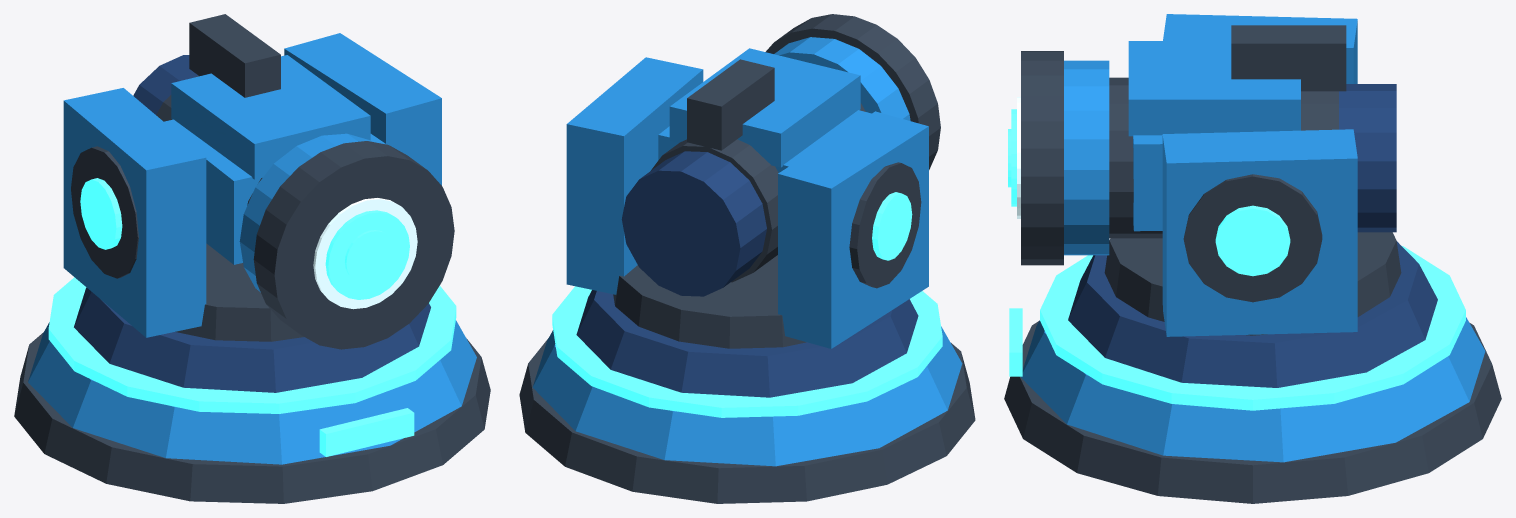
The model's file is laser_cannon_blue.glb.
3 renders of one model, left to right at view 1: azimuth 30°, elevation 25°; view 2: azimuth 150°, elevation 25°; view 3: azimuth 270°, elevation 25°, orthographic. The views are drawn at different scales.
Parts seen in each view (by area): view 1: laser_cannon_blue_Emitter_Rim, laser_cannon_blue_Yoke_Left, laser_cannon_blue_Base_Lower, laser_cannon_blue_Base_Armor, laser_cannon_blue_Base_Deck, laser_cannon_blue_Base_Light_Ring, laser_cannon_blue_Barrel_Armor_Top, laser_cannon_blue_Yoke_Right, laser_cannon_blue_Yaw_Bearing, laser_cannon_blue_Top_Sight, laser_cannon_blue_Barrel_Armor_Left, laser_cannon_blue_Left_Pivot_Rim (+7 smaller); view 2: laser_cannon_blue_Yoke_Left, laser_cannon_blue_Base_Armor, laser_cannon_blue_Base_Lower, laser_cannon_blue_Base_Deck, laser_cannon_blue_Yoke_Right, laser_cannon_blue_Rear_Power_Cell, laser_cannon_blue_Base_Light_Ring, laser_cannon_blue_Yaw_Bearing, laser_cannon_blue_Barrel_Armor_Top, laser_cannon_blue_Emitter_Rim, laser_cannon_blue_Top_Sight, laser_cannon_blue_Left_Pivot_Rim (+4 smaller); view 3: laser_cannon_blue_Yoke_Right, laser_cannon_blue_Base_Armor, laser_cannon_blue_Base_Lower, laser_cannon_blue_Base_Deck, laser_cannon_blue_Base_Light_Ring, laser_cannon_blue_Barrel_Armor_Top, laser_cannon_blue_Right_Pivot_Rim, laser_cannon_blue_Emitter_Rim, laser_cannon_blue_Focus_Collar, laser_cannon_blue_Yaw_Bearing, laser_cannon_blue_Top_Sight, laser_cannon_blue_Rear_Power_Cell (+6 smaller).
Boxes of the visible parts, x1=… form: laser_cannon_blue_Emitter_Rim: x1=253, y1=141, x2=454, y2=349; laser_cannon_blue_Yoke_Left: x1=63, y1=88, x2=206, y2=337; laser_cannon_blue_Base_Lower: x1=14, y1=332, x2=490, y2=503; laser_cannon_blue_Base_Armor: x1=28, y1=320, x2=476, y2=464; laser_cannon_blue_Base_Deck: x1=74, y1=287, x2=430, y2=392; laser_cannon_blue_Base_Light_Ring: x1=48, y1=277, x2=456, y2=413; laser_cannon_blue_Barrel_Armor_Top: x1=171, y1=55, x2=370, y2=179; laser_cannon_blue_Yoke_Right: x1=284, y1=33, x2=441, y2=185; laser_cannon_blue_Yaw_Bearing: x1=175, y1=243, x2=303, y2=341; laser_cannon_blue_Top_Sight: x1=189, y1=14, x2=280, y2=97; laser_cannon_blue_Barrel_Armor_Left: x1=164, y1=119, x2=260, y2=264; laser_cannon_blue_Left_Pivot_Rim: x1=71, y1=146, x2=138, y2=278; laser_cannon_blue_Yoke_Left: x1=778, y1=111, x2=928, y2=348; laser_cannon_blue_Base_Armor: x1=532, y1=326, x2=962, y2=466; laser_cannon_blue_Base_Lower: x1=519, y1=338, x2=975, y2=503; laser_cannon_blue_Base_Deck: x1=576, y1=290, x2=918, y2=397; laser_cannon_blue_Yoke_Right: x1=566, y1=57, x2=703, y2=294; laser_cannon_blue_Rear_Power_Cell: x1=621, y1=151, x2=766, y2=296; laser_cannon_blue_Base_Light_Ring: x1=552, y1=286, x2=942, y2=417; laser_cannon_blue_Yaw_Bearing: x1=613, y1=255, x2=806, y2=348; laser_cannon_blue_Barrel_Armor_Top: x1=669, y1=48, x2=860, y2=167; laser_cannon_blue_Emitter_Rim: x1=765, y1=14, x2=940, y2=169; laser_cannon_blue_Top_Sight: x1=687, y1=59, x2=774, y2=150; laser_cannon_blue_Left_Pivot_Rim: x1=849, y1=162, x2=921, y2=288; laser_cannon_blue_Yoke_Right: x1=1162, y1=129, x2=1357, y2=336; laser_cannon_blue_Base_Armor: x1=1021, y1=317, x2=1485, y2=462; laser_cannon_blue_Base_Lower: x1=1004, y1=321, x2=1501, y2=503; laser_cannon_blue_Base_Deck: x1=1068, y1=241, x2=1437, y2=387; laser_cannon_blue_Base_Light_Ring: x1=1040, y1=245, x2=1465, y2=410; laser_cannon_blue_Barrel_Armor_Top: x1=1128, y1=41, x2=1300, y2=136; laser_cannon_blue_Right_Pivot_Rim: x1=1183, y1=174, x2=1322, y2=302; laser_cannon_blue_Emitter_Rim: x1=1021, y1=51, x2=1063, y2=265; laser_cannon_blue_Focus_Collar: x1=1064, y1=60, x2=1109, y2=255; laser_cannon_blue_Yaw_Bearing: x1=1104, y1=232, x2=1401, y2=335; laser_cannon_blue_Top_Sight: x1=1231, y1=25, x2=1346, y2=91; laser_cannon_blue_Rear_Power_Cell: x1=1339, y1=84, x2=1396, y2=232.
Bounding box in the file's own units: 1.04 × 0.84 × 1.04.
